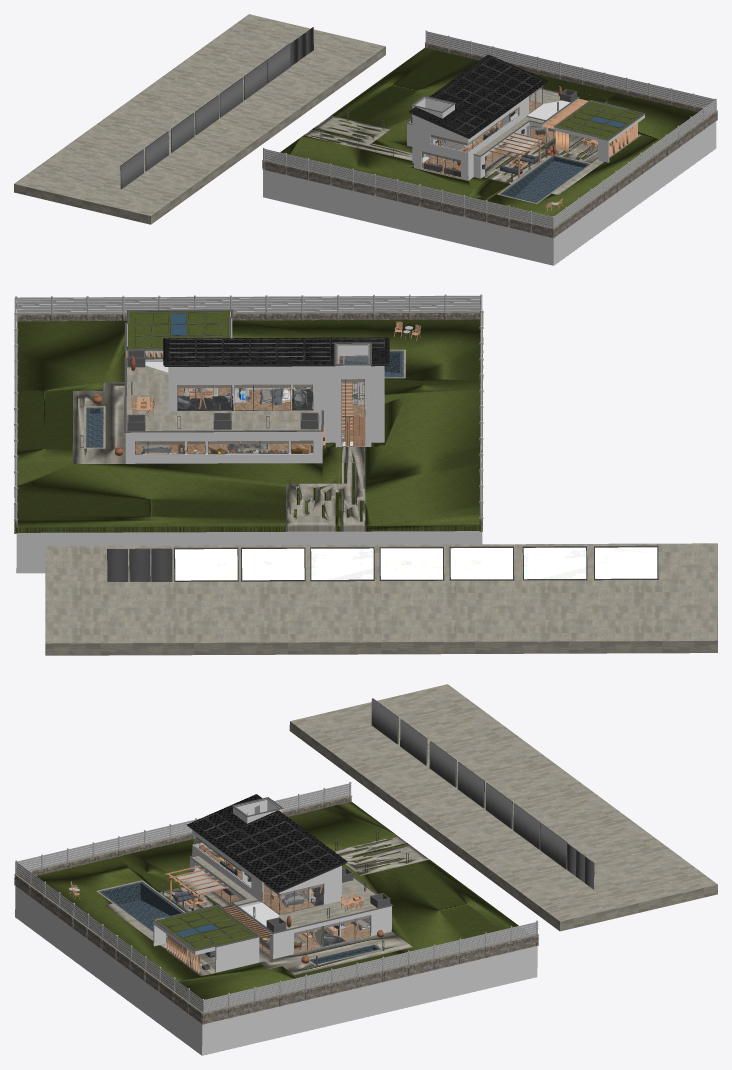
File: dxb-villa-m.glb
3 views of the same model, one above another, from view 1: azimuth 30°, elevation 25°; view 2: azimuth 150°, elevation 25°; view 3: azimuth 270°, elevation 25° (orthographic). The views are drawn at different scales.
Visible parts, largest first — view 1: Exterior walls.008_Terrace tiles_0, Exterior walls.008_Grass_0, Lightblocker.001_Clear_0, Fence Pole.008_White wood_0, Exterior walls.008_Dark metal_0, Fence Pole.008_Cobblestone_0, Roof.005_Plaster_0, Roof tiles.003_Painted stone dark_0, Plane.194_Constructive wood_0, Pool_Infinity pool tiles_0, Glass folding door.091_Glass_0, Fence Pole.008_Stone_0 (+4 smaller); view 2: Exterior walls.008_Terrace tiles_0, Exterior walls.008_Grass_0, Roof.005_Plaster_0, Exterior walls.008_Dark metal_0, Fence Pole.008_White wood_0, Lightblocker.001_Clear_0, Roof tiles.003_Painted stone dark_0, Glass folding door.091_Glass_0, Fence Pole.008_Cobblestone_0, Plane.194_Constructive wood_0, Plane.002_Material.003_0, Plane.006_Material.005_0 (+12 smaller); view 3: Exterior walls.008_Terrace tiles_0, Exterior walls.008_Grass_0, Lightblocker.001_Clear_0, Exterior walls.008_Dark metal_0, Fence Pole.008_White wood_0, Fence Pole.008_Cobblestone_0, Roof.005_Plaster_0, Roof tiles.003_Painted stone dark_0, Glass folding door.091_Glass_0, Plane.194_Constructive wood_0, Pool_Infinity pool tiles_0, Fence Pole.008_Stone_0 (+2 smaller).
Boxes of the visible parts, left/top/right/bottom form: Exterior walls.008_Terrace tiles_0: left=14, top=14, right=641, bottom=224; Exterior walls.008_Grass_0: left=280, top=47, right=705, bottom=225; Lightblocker.001_Clear_0: left=263, top=121, right=716, bottom=265; Fence Pole.008_White wood_0: left=263, top=30, right=716, bottom=228; Exterior walls.008_Dark metal_0: left=120, top=27, right=645, bottom=205; Fence Pole.008_Cobblestone_0: left=262, top=43, right=717, bottom=238; Roof.005_Plaster_0: left=407, top=85, right=644, bottom=180; Roof tiles.003_Painted stone dark_0: left=409, top=54, right=548, bottom=138; Plane.194_Constructive wood_0: left=435, top=94, right=637, bottom=211; Pool_Infinity pool tiles_0: left=500, top=156, right=589, bottom=202; Glass folding door.091_Glass_0: left=417, top=87, right=554, bottom=175; Fence Pole.008_Stone_0: left=262, top=42, right=717, bottom=229; Exterior walls.008_Terrace tiles_0: left=45, top=349, right=717, bottom=655; Exterior walls.008_Grass_0: left=15, top=311, right=481, bottom=532; Roof.005_Plaster_0: left=125, top=311, right=384, bottom=463; Exterior walls.008_Dark metal_0: left=80, top=309, right=658, bottom=581; Fence Pole.008_White wood_0: left=14, top=294, right=482, bottom=519; Lightblocker.001_Clear_0: left=16, top=387, right=482, bottom=573; Roof tiles.003_Painted stone dark_0: left=163, top=337, right=389, bottom=364; Glass folding door.091_Glass_0: left=136, top=345, right=367, bottom=453; Fence Pole.008_Cobblestone_0: left=14, top=313, right=483, bottom=533; Plane.194_Constructive wood_0: left=126, top=321, right=421, bottom=453; Plane.002_Material.003_0: left=175, top=549, right=237, bottom=580; Plane.006_Material.005_0: left=311, top=548, right=373, bottom=579; Exterior walls.008_Terrace tiles_0: left=96, top=684, right=717, bottom=976; Exterior walls.008_Grass_0: left=26, top=802, right=518, bottom=1009; Lightblocker.001_Clear_0: left=15, top=886, right=537, bottom=1055; Exterior walls.008_Dark metal_0: left=152, top=698, right=594, bottom=966; Fence Pole.008_White wood_0: left=15, top=781, right=538, bottom=1013; Fence Pole.008_Cobblestone_0: left=14, top=796, right=538, bottom=1024; Roof.005_Plaster_0: left=153, top=800, right=391, bottom=972; Roof tiles.003_Painted stone dark_0: left=186, top=794, right=347, bottom=892; Glass folding door.091_Glass_0: left=194, top=800, right=369, bottom=952; Plane.194_Constructive wood_0: left=69, top=850, right=370, bottom=973; Pool_Infinity pool tiles_0: left=99, top=882, right=379, bottom=964; Fence Pole.008_Stone_0: left=14, top=795, right=538, bottom=1013.
Size of what is drawn, in the model's own units: 84.45 by 12.49 by 74.76.
68 materials, 33 textured.
